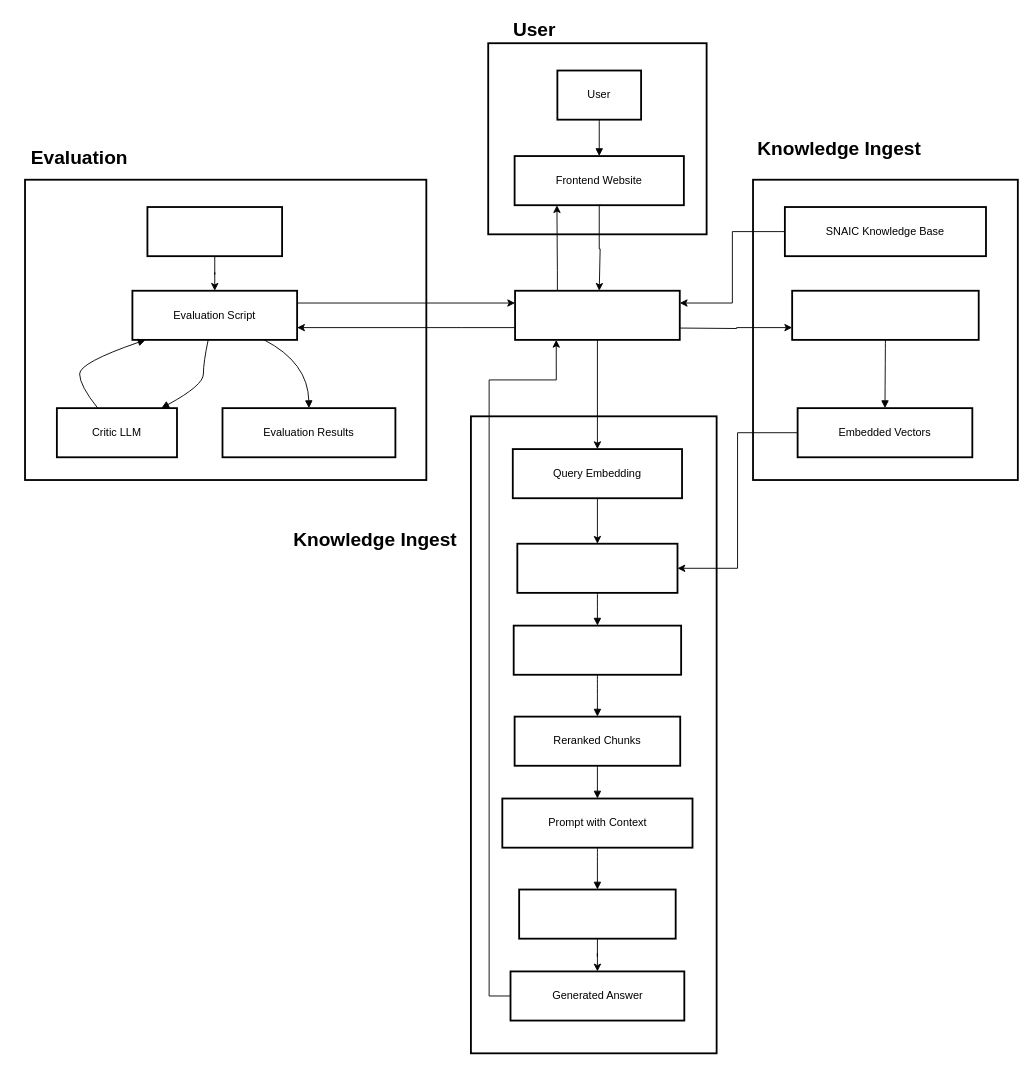
Some shapes in this 1034 by 1069 pixel diagram are drawn without their labels. The shapes that lost their labels are listed below. From the top down, each one's box as (x1, y1, x2, y2) in pixels, then its label:
(146, 206, 283, 257): Test Dataset
(514, 289, 680, 340): Backend RAG API
(791, 289, 979, 340): Chunked Documents
(516, 542, 678, 593): Vector Database
(512, 624, 682, 675): Retrieved Chunks
(518, 888, 676, 939): Generation LLM
